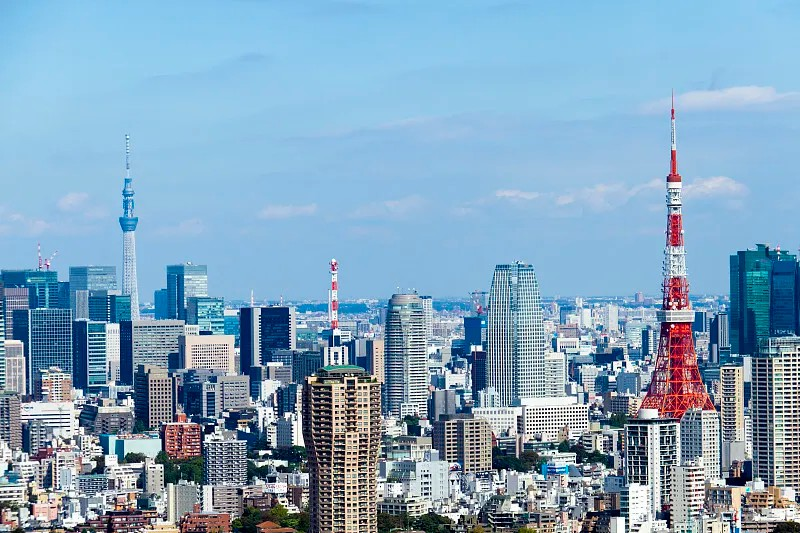Tokyo: (639, 88, 714, 409)
